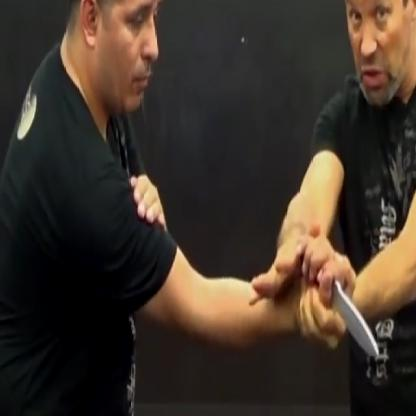knife: (306, 235, 384, 365)
